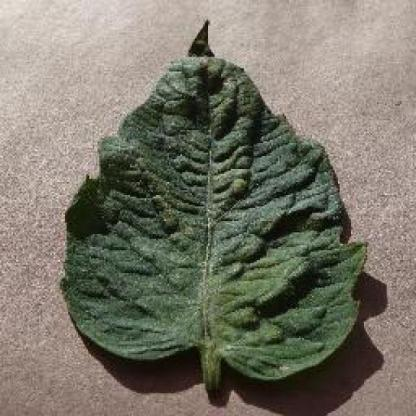Tomato_Spider_Mites: (61, 20, 361, 376)
